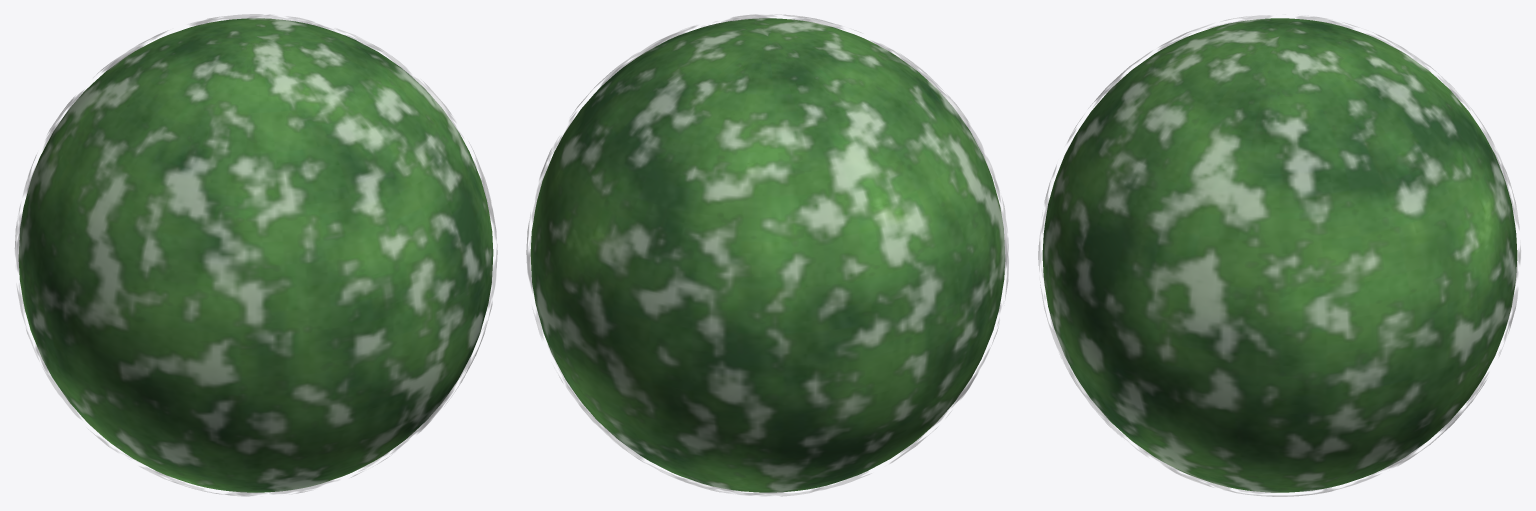
File: planet_acid_000.glb
3 renders of one model, left to right at view 1: azimuth 30°, elevation 25°; view 2: azimuth 150°, elevation 25°; view 3: azimuth 270°, elevation 25°, orthographic.
Visible parts, largest first — view 1: Planet_acid_000.001, Clouds_acid_000.001; view 2: Planet_acid_000.001, Clouds_acid_000.001; view 3: Planet_acid_000.001, Clouds_acid_000.001.
Part boxes in pixels (left/top/right/bottom): Planet_acid_000.001: left=18, top=18, right=493, bottom=492; Clouds_acid_000.001: left=15, top=14, right=497, bottom=496; Planet_acid_000.001: left=530, top=18, right=1005, bottom=492; Clouds_acid_000.001: left=526, top=14, right=1008, bottom=496; Planet_acid_000.001: left=1042, top=18, right=1517, bottom=492; Clouds_acid_000.001: left=1038, top=15, right=1520, bottom=496.
Bounding box in the file's own units: 2.04 × 2.04 × 2.04.
2 materials, 2 textured.
